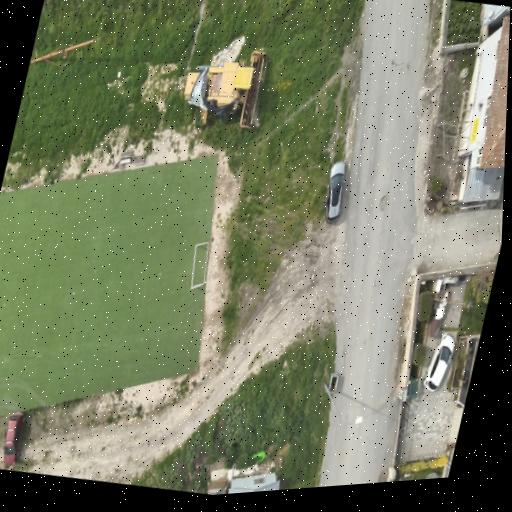car: (424, 334, 454, 391), (324, 161, 345, 222), (4, 413, 24, 466)
harvester: (184, 51, 268, 128)
